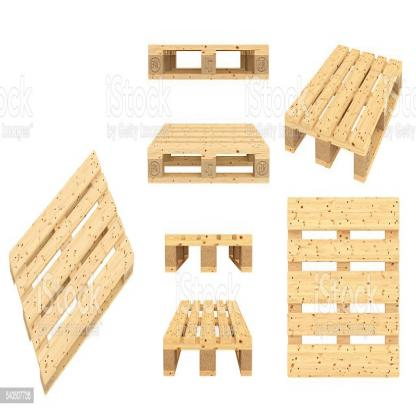BoxFace: (7, 150, 135, 399), (285, 196, 400, 386), (283, 43, 404, 183), (145, 120, 269, 188), (161, 299, 254, 380), (147, 43, 271, 85), (163, 234, 252, 277)
